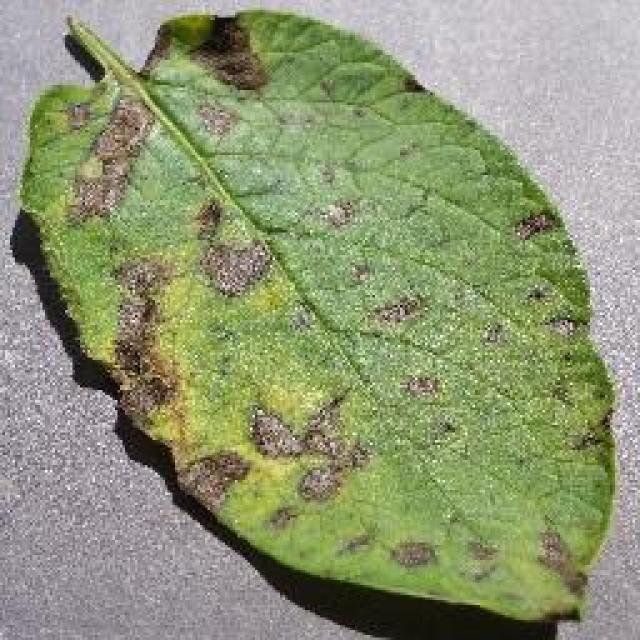Potato___Early_blight: (21, 6, 617, 623)
